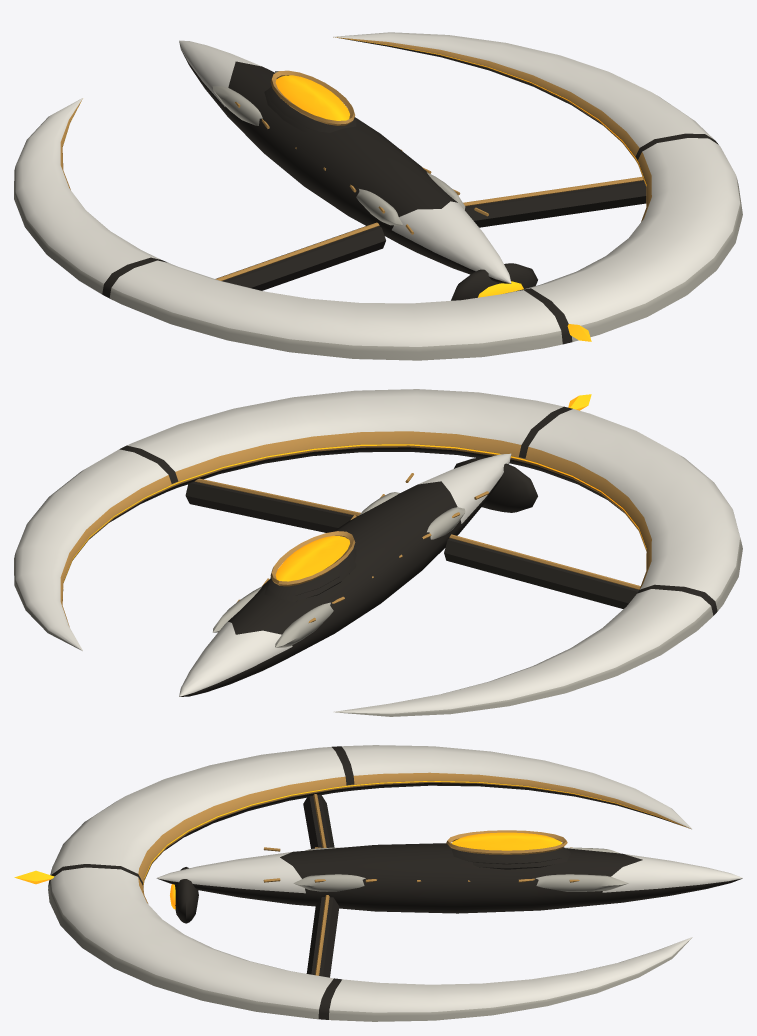
The model's file is 01_korvette.glb.
3 renders of one model, top to bottom at view 1: azimuth 30°, elevation 25°; view 2: azimuth 150°, elevation 25°; view 3: azimuth 270°, elevation 25°, orthographic. The views are drawn at different scales.
Visible parts, largest first — view 1: Hull, energy_1, energy_2; view 2: Hull, energy_1, energy_2; view 3: Hull, energy_1, energy_2.
Boxes of the visible parts, bbox=[...] form: Hull: bbox=[14, 32, 742, 360]; energy_1: bbox=[268, 70, 356, 132]; energy_2: bbox=[451, 263, 537, 300]; Hull: bbox=[14, 389, 742, 716]; energy_1: bbox=[268, 531, 356, 595]; energy_2: bbox=[454, 458, 537, 512]; Hull: bbox=[48, 745, 742, 1021]; energy_1: bbox=[446, 830, 569, 864]; energy_2: bbox=[170, 867, 198, 923].
Bounding box in the file's own units: 5.42 × 0.7808 × 6.26.
